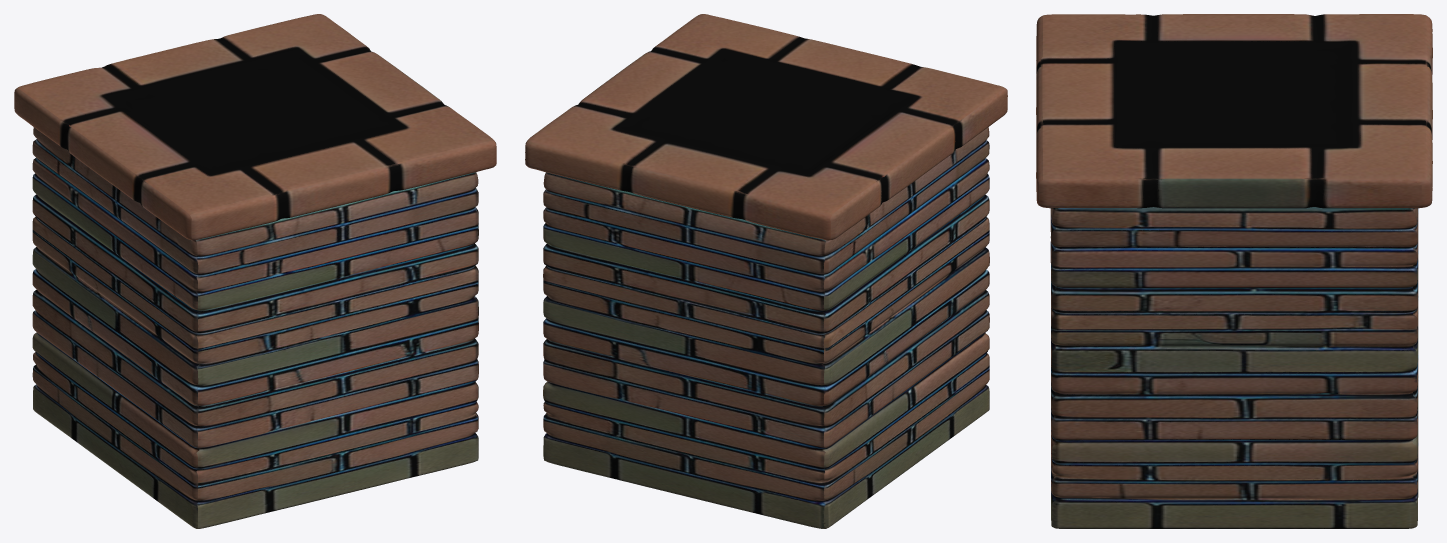
Rendered from roof-chimney-brick.glb.
3 renders of one model, left to right at view 1: azimuth 30°, elevation 25°; view 2: azimuth 150°, elevation 25°; view 3: azimuth 270°, elevation 25°, orthographic. The views are drawn at different scales.
Visible parts, largest first — view 1: tmpf5cpda63.ply; view 2: tmpf5cpda63.ply; view 3: tmpf5cpda63.ply.
Part boxes in pixels (<box>): tmpf5cpda63.ply: <box>14,14,496,528</box>; tmpf5cpda63.ply: <box>525,14,1007,528</box>; tmpf5cpda63.ply: <box>1036,14,1432,528</box>.
Bounding box in the file's own units: 1 × 1 × 1.
Materials: 1 (1 with a texture image).
